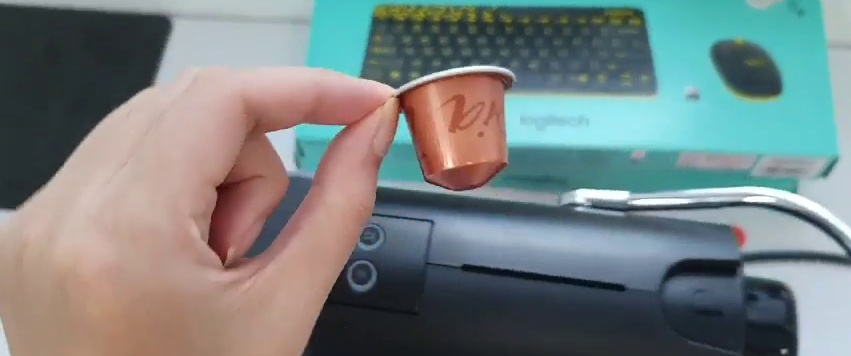capsule_6: (390, 64, 524, 190)
